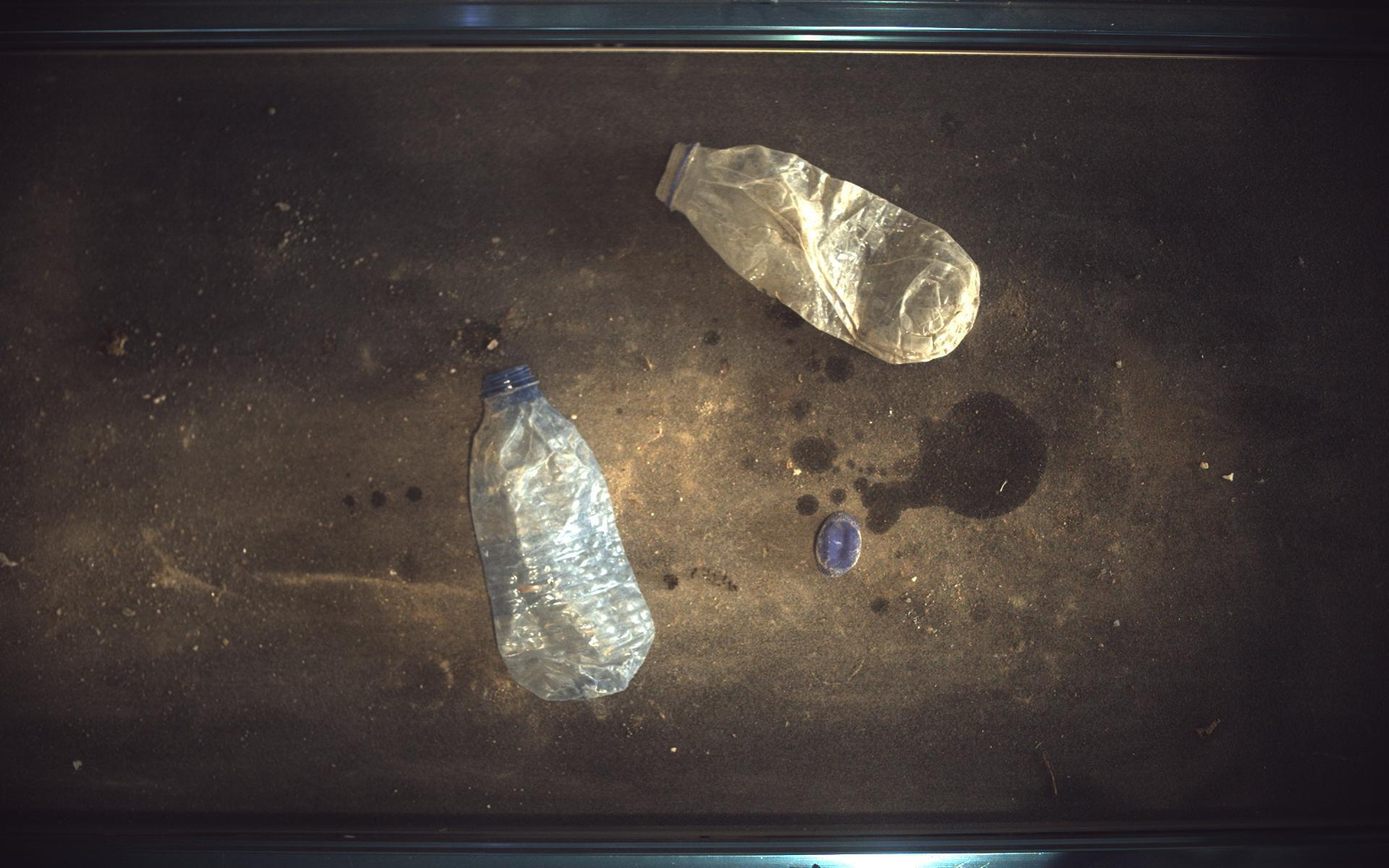general_w: (471, 365, 655, 702), (816, 512, 863, 578)
